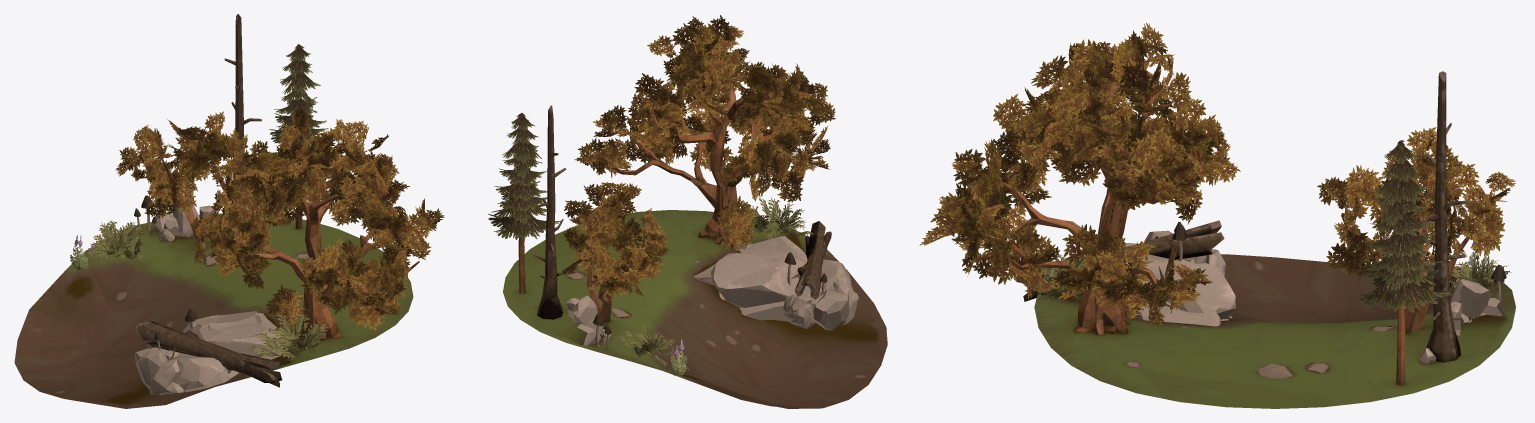
The model's file is lake-environment.glb.
The picture shows the model from 3 angles, left to right: view 1: azimuth 30°, elevation 25°; view 2: azimuth 150°, elevation 25°; view 3: azimuth 270°, elevation 25°; orthographic projection. The views are drawn at different scales.
Parts seen in each view (by area): view 1: Mesh; view 2: Mesh; view 3: Mesh.
Boxes of the visible parts, bbox=[...] form: Mesh: bbox=[14, 14, 444, 408]; Mesh: bbox=[488, 15, 887, 408]; Mesh: bbox=[919, 22, 1515, 408].
Bounding box in the file's own units: 1.79 × 1.38 × 2.05.
Materials: 1 (1 with a texture image).
